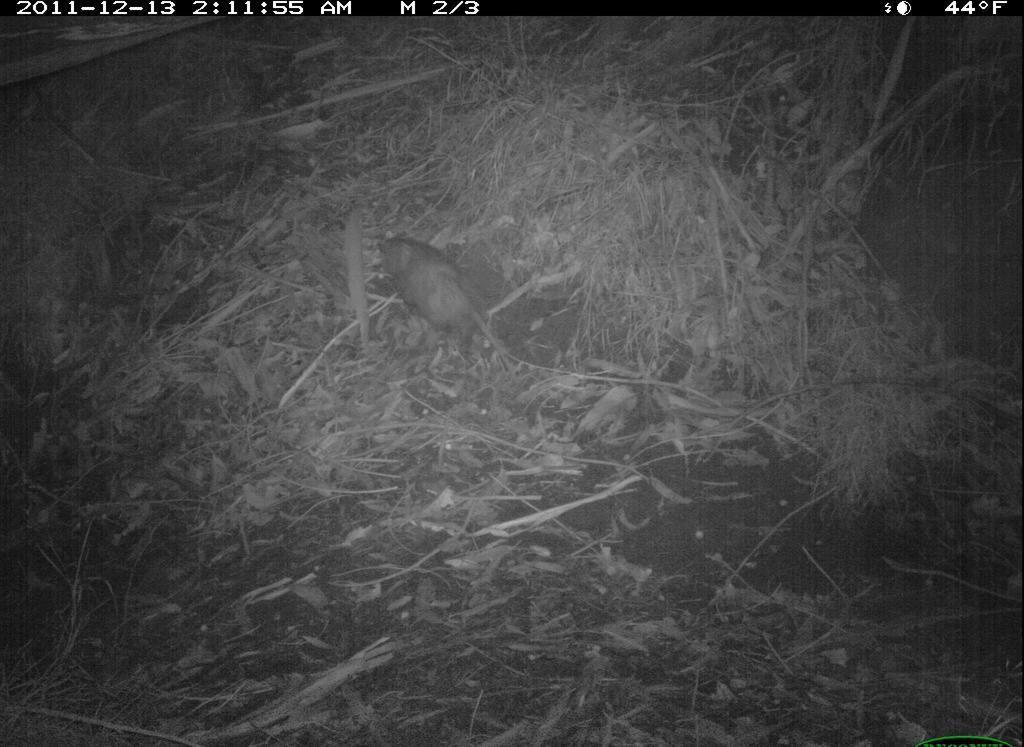opossum: (360, 223, 524, 392)
